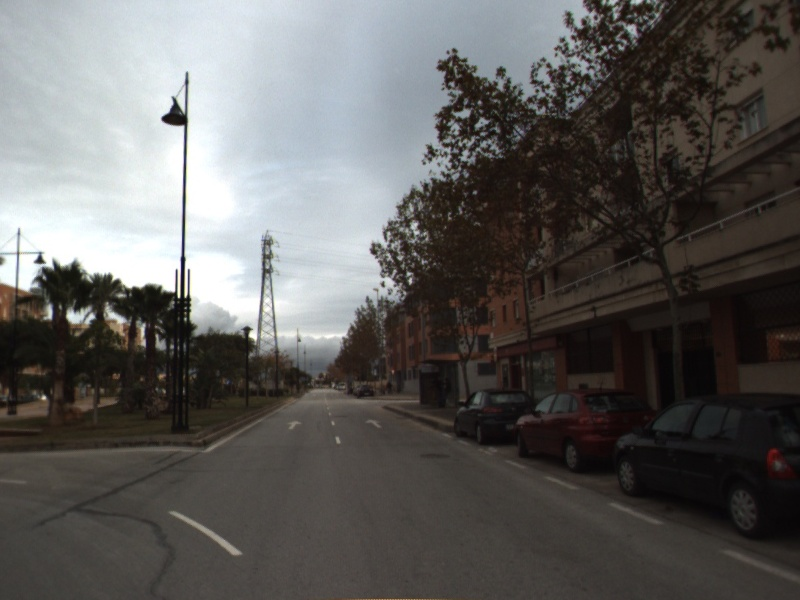STRAIGHT: (363, 417, 384, 430), (285, 418, 304, 431)
